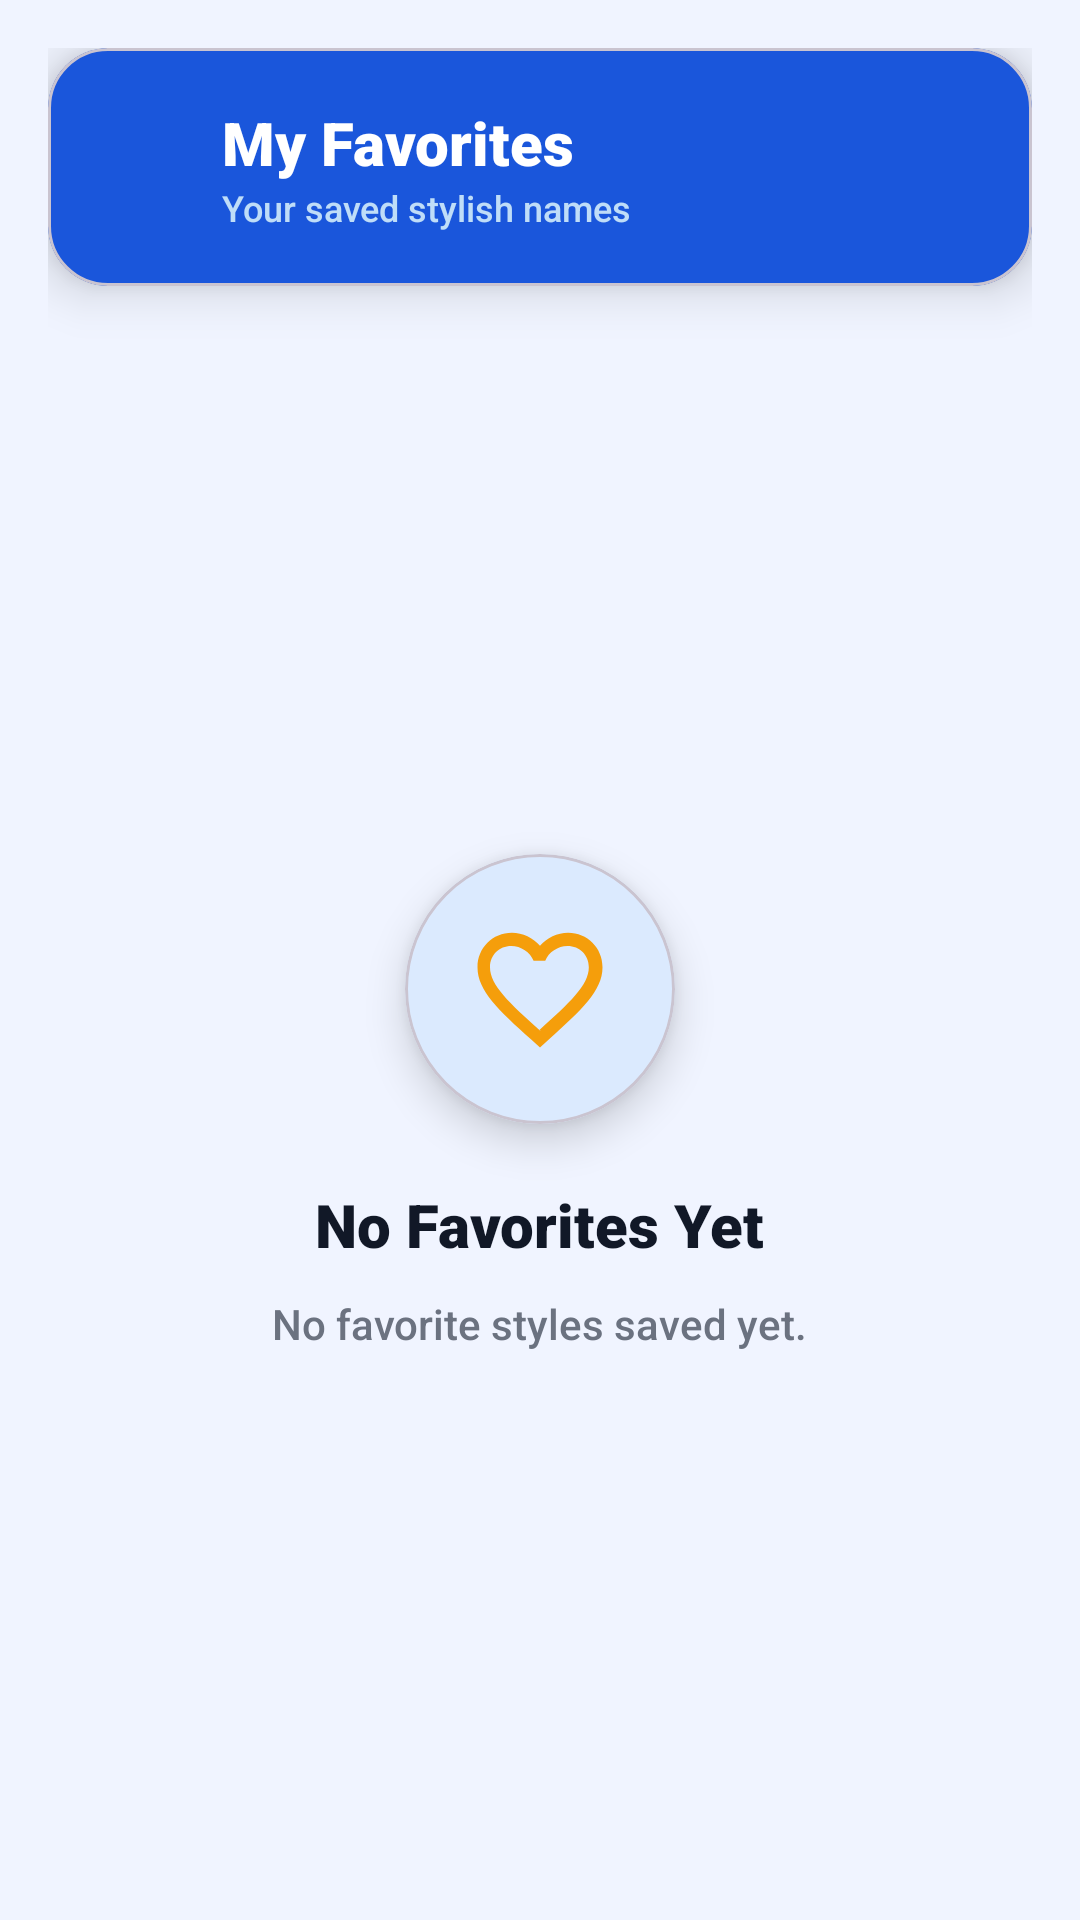

Icons on this 1080w x 1920h Android screen, each with the point to tap as [x,y]:
favorite border: [540,989]
